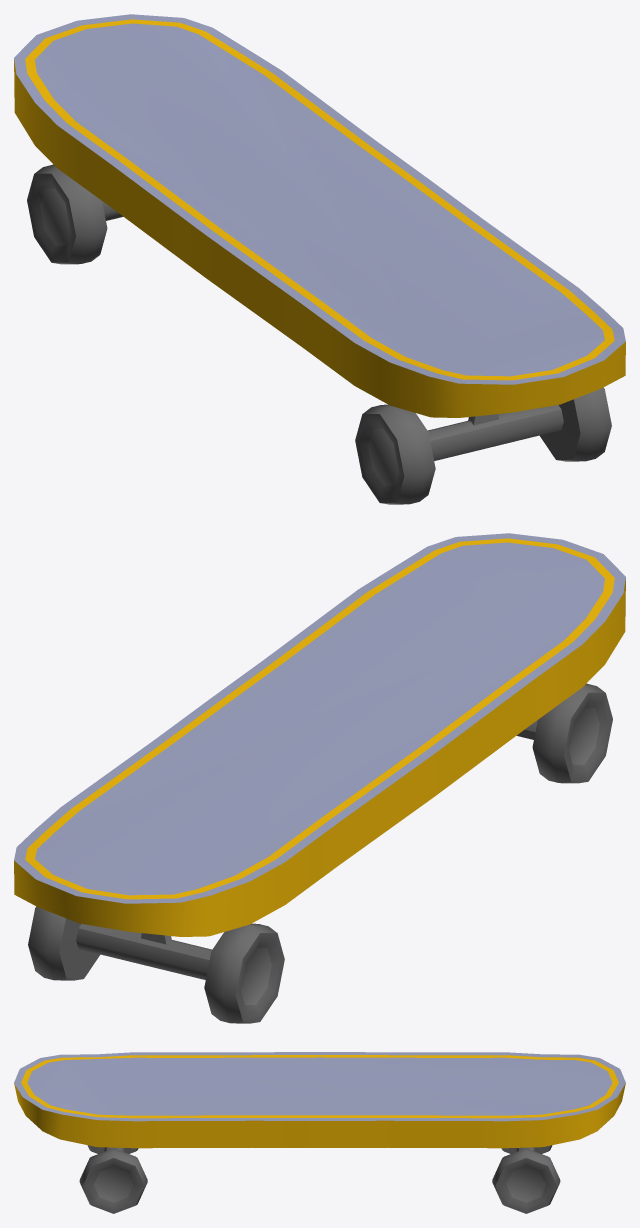
Rendered from Board_2.fbx.
3 renders of one model, top to bottom at view 1: azimuth 30°, elevation 25°; view 2: azimuth 150°, elevation 25°; view 3: azimuth 270°, elevation 25°, orthographic. The views are drawn at different scales.
Parts seen in each view (by area): view 1: Board_2, Board_2 RF Tire, Board_2 RB Tire, Board_2 LF Tire; view 2: Board_2, Board_2 RB Tire, Board_2 RF Tire, Board_2 LB Tire; view 3: Board_2, Board_2 LF Tire, Board_2 LB Tire.
Part boxes in pixels (x1,y1,x2,y2): Board_2: [14, 14, 625, 460]; Board_2 RF Tire: [355, 404, 435, 504]; Board_2 RB Tire: [27, 164, 107, 264]; Board_2 LF Tire: [539, 387, 611, 461]; Board_2: [14, 533, 625, 979]; Board_2 RB Tire: [204, 923, 284, 1023]; Board_2 RF Tire: [532, 683, 612, 783]; Board_2 LB Tire: [28, 906, 100, 980]; Board_2: [14, 1052, 625, 1151]; Board_2 LF Tire: [79, 1148, 147, 1213]; Board_2 LB Tire: [492, 1148, 560, 1213].
Bounding box in the file's own units: 0.2609 × 0.1798 × 0.9748.
